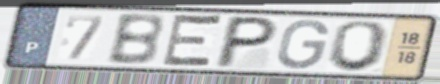7: (63, 14, 106, 61)
B: (104, 12, 166, 67)
E: (159, 11, 227, 71)
G: (275, 17, 332, 71)
O: (324, 20, 394, 74)
P: (211, 14, 282, 70)
